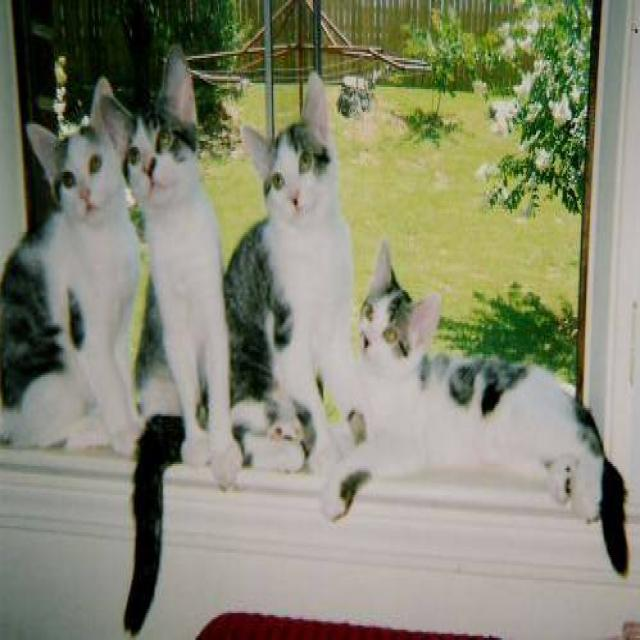cat: (316, 217, 633, 583), (94, 39, 251, 502), (224, 46, 372, 511), (0, 72, 145, 458)
